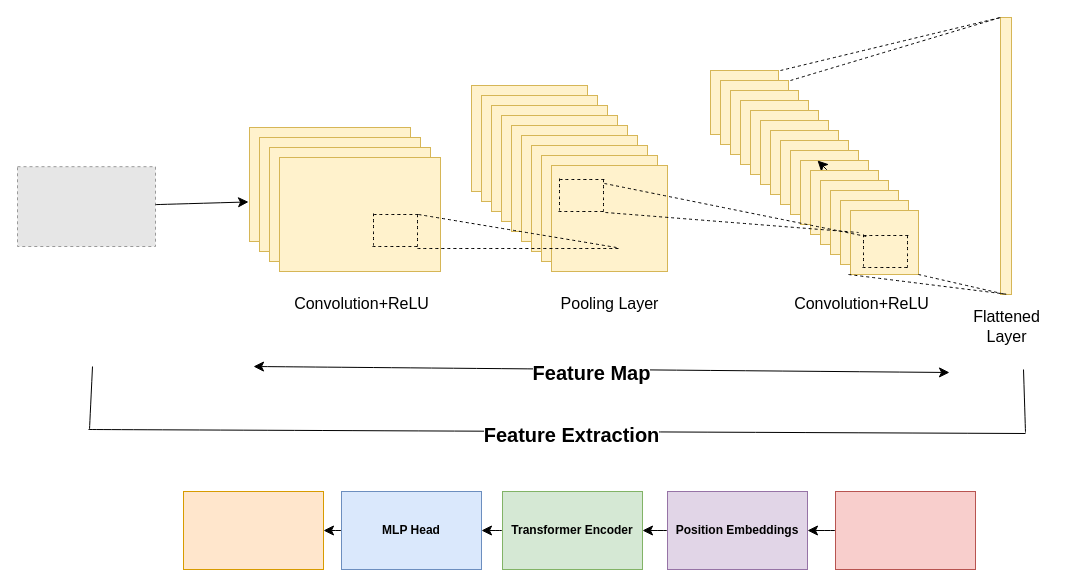
Some shapes in this 1066 by 587 pixel diagram are drawn without their labels. Grey dashed boxes stand in for pictures. The centre of each missing label's shape, as x and y in pixels:
Linear Projection of Flattened Patches: pixel 905 530
Output: The Label of the image: pixel 253 530
